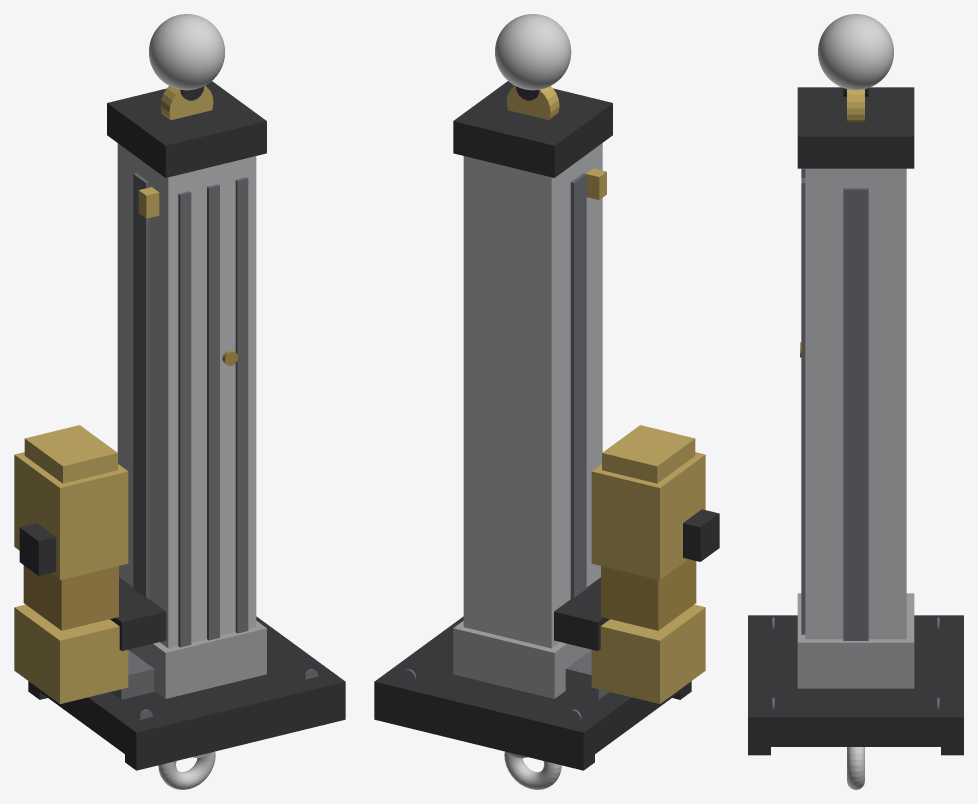
The model's file is side-cylinder.glb.
3 views of the same model, side by side, from view 1: azimuth 30°, elevation 25°; view 2: azimuth 150°, elevation 25°; view 3: azimuth 270°, elevation 25° (orthographic).
Visible parts, largest first — view 1: geometry_0, geometry_13, geometry_22, geometry_8, geometry_25, geometry_5, geometry_1, geometry_3, geometry_12, geometry_2, geometry_24, geometry_11 (+8 smaller); view 2: geometry_0, geometry_13, geometry_22, geometry_8, geometry_25, geometry_5, geometry_12, geometry_24, geometry_11, geometry_15, geometry_23, geometry_27 (+4 smaller); view 3: geometry_0, geometry_13, geometry_4, geometry_8, geometry_12, geometry_11, geometry_3, geometry_21, geometry_9.
Part boxes in pixels (left/top/right/bottom): geometry_0: left=117, top=143, right=256, bottom=648; geometry_13: left=28, top=616, right=345, bottom=762; geometry_22: left=14, top=452, right=128, bottom=580; geometry_8: left=107, top=81, right=266, bottom=177; geometry_25: left=14, top=604, right=128, bottom=703; geometry_5: left=133, top=173, right=149, bottom=598; geometry_1: left=178, top=191, right=191, bottom=647; geometry_3: left=235, top=177, right=248, bottom=633; geometry_12: left=128, top=621, right=266, bottom=698; geometry_2: left=207, top=184, right=219, bottom=640; geometry_24: left=23, top=565, right=118, bottom=630; geometry_11: left=149, top=14, right=224, bottom=90; geometry_0: left=463, top=143, right=602, bottom=648; geometry_13: left=374, top=616, right=691, bottom=762; geometry_22: left=591, top=452, right=705, bottom=580; geometry_8: left=453, top=81, right=612, bottom=177; geometry_25: left=591, top=604, right=705, bottom=703; geometry_5: left=570, top=173, right=586, bottom=598; geometry_12: left=453, top=621, right=591, bottom=698; geometry_24: left=601, top=559, right=696, bottom=630; geometry_11: left=495, top=14, right=571, bottom=90; geometry_15: left=374, top=699, right=594, bottom=770; geometry_23: left=602, top=425, right=695, bottom=483; geometry_27: left=554, top=577, right=609, bottom=650; geometry_0: left=805, top=168, right=906, bottom=639; geometry_13: left=748, top=615, right=963, bottom=746; geometry_4: left=843, top=188, right=868, bottom=640; geometry_8: left=797, top=87, right=914, bottom=168; geometry_12: left=797, top=593, right=914, bottom=688; geometry_11: left=818, top=14, right=893, bottom=89; geometry_3: left=801, top=178, right=805, bottom=634; geometry_21: left=847, top=747, right=864, bottom=789; geometry_9: left=847, top=89, right=864, bottom=121.
Bounding box in the file's own units: 0.247 × 0.669 × 0.17.
